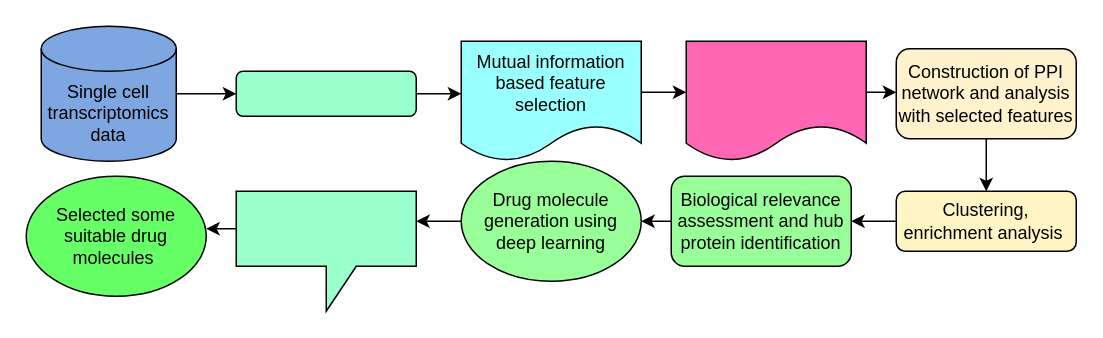
Some shapes in this 1103 by 338 pixel diagram are drawn without their labels. Here are the shapes that lost their labels. From the top down, the centre of each, then its label:
At (325,93): "Data preprocessing".
At (775,100): "Classification algorithm(LR, RF, XGboost)".
At (325,250): "ADMET and druglikeliness propeties check".
